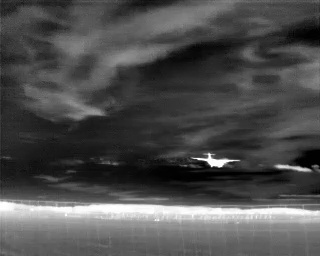AIRPLANE: (189, 148, 245, 171)
